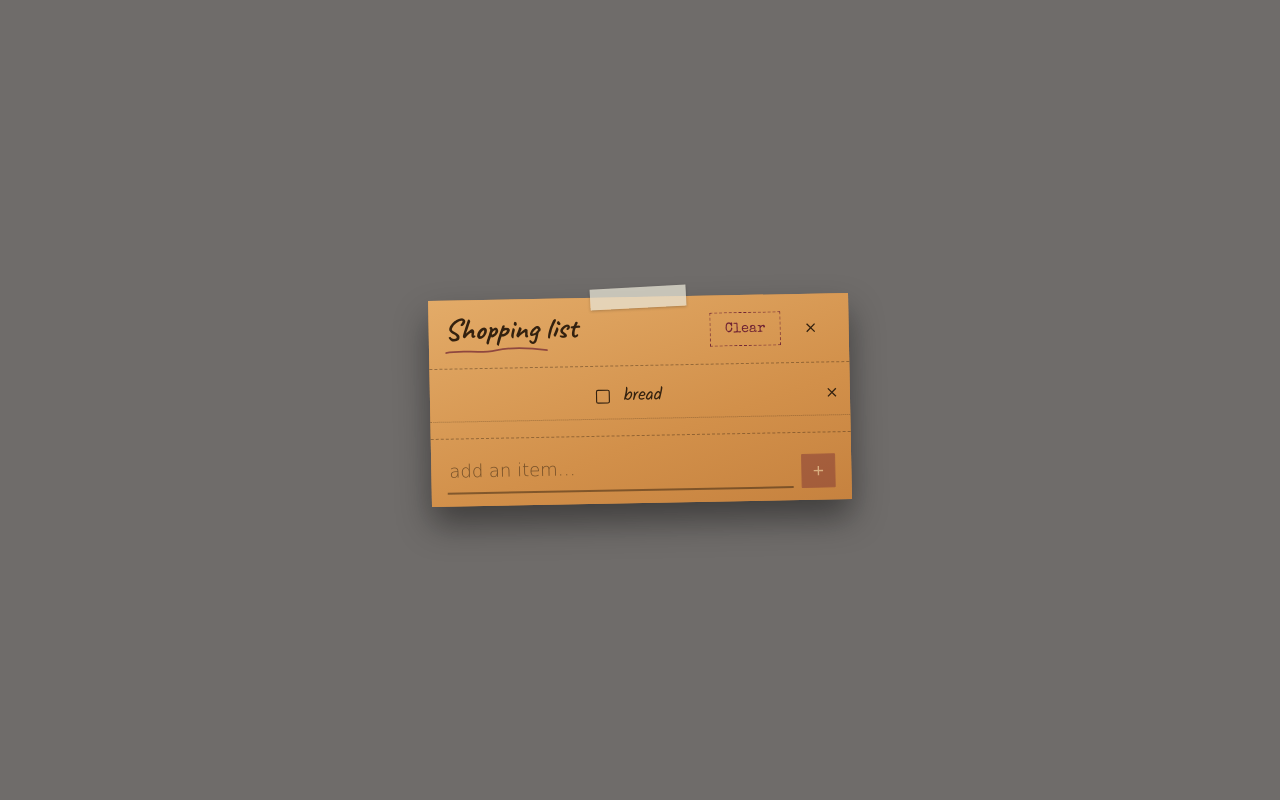
ticking things off › reverts the row and reports when the write fails
The width and height of the screenshot is (1280, 800).
Click the button "bread": {"x": 643, "y": 396} [430,371,810,422]
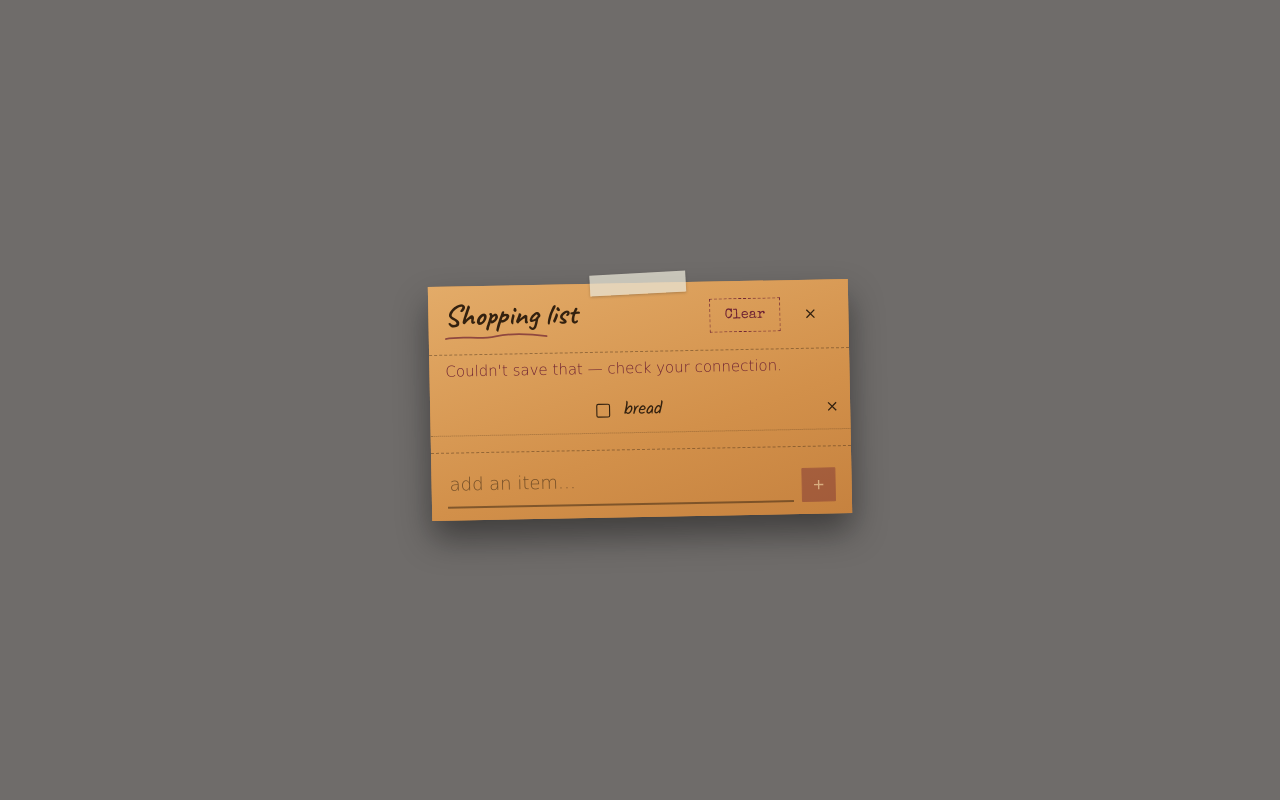
Now the text with test id "shopping-error" reads "Couldn't save that — check your connection.", box [445,356,782,381]
